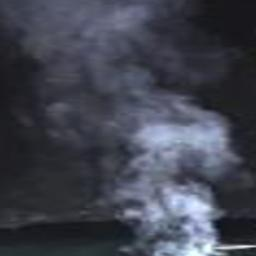smoke: (11, 0, 240, 255)
